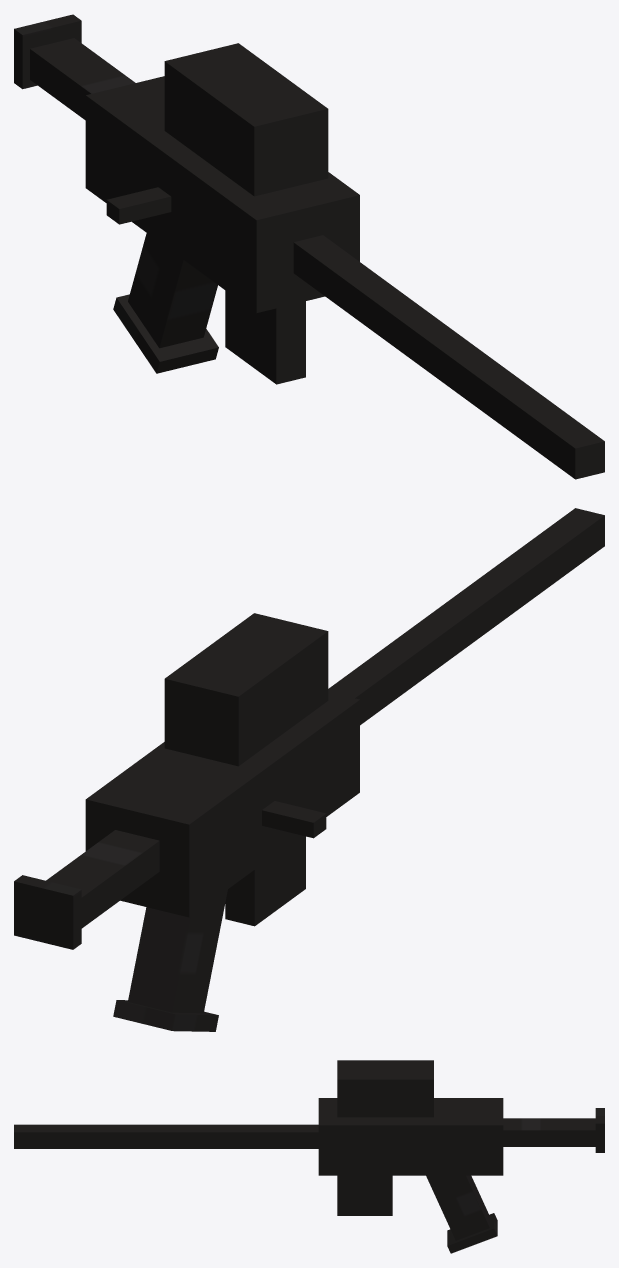
Rendered from sniper2.obj.
3 renders of one model, top to bottom at view 1: azimuth 30°, elevation 25°; view 2: azimuth 150°, elevation 25°; view 3: azimuth 270°, elevation 25°, orthographic. The views are drawn at different scales.
Parts seen in each view (by area): view 1: cube; view 2: cube; view 3: cube.
Part boxes in pixels (x1,y1,x2,y2): cube: [14, 14, 604, 479]; cube: [14, 508, 604, 1031]; cube: [14, 1060, 604, 1253].
Bounding box in the file's own units: 5.25 × 10.52 × 32.
Materials: 1 (1 with a texture image).
